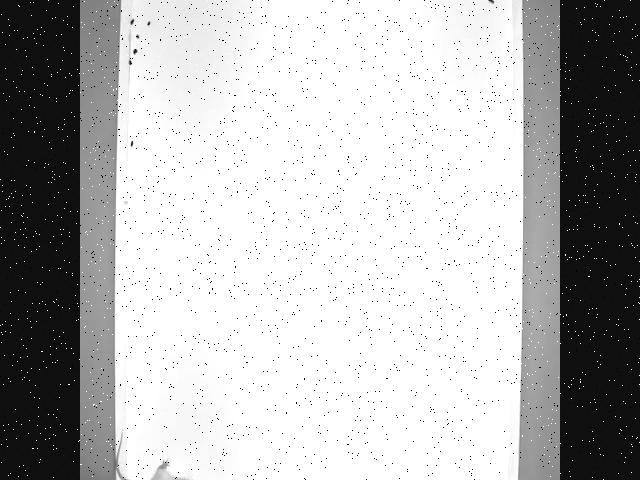Tikus: (112, 428, 208, 480)
